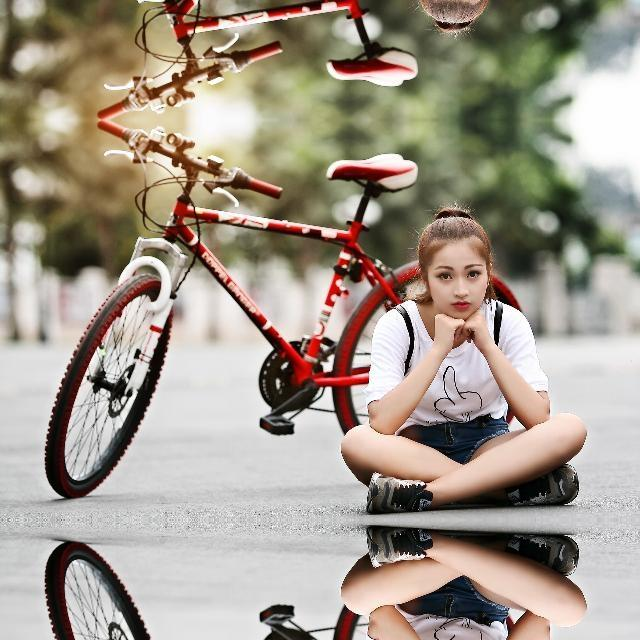obstacle: (70, 128, 410, 498), (70, 0, 409, 112), (70, 542, 409, 640)
person: (389, 219, 575, 499), (389, 541, 575, 640), (389, 0, 575, 21)
